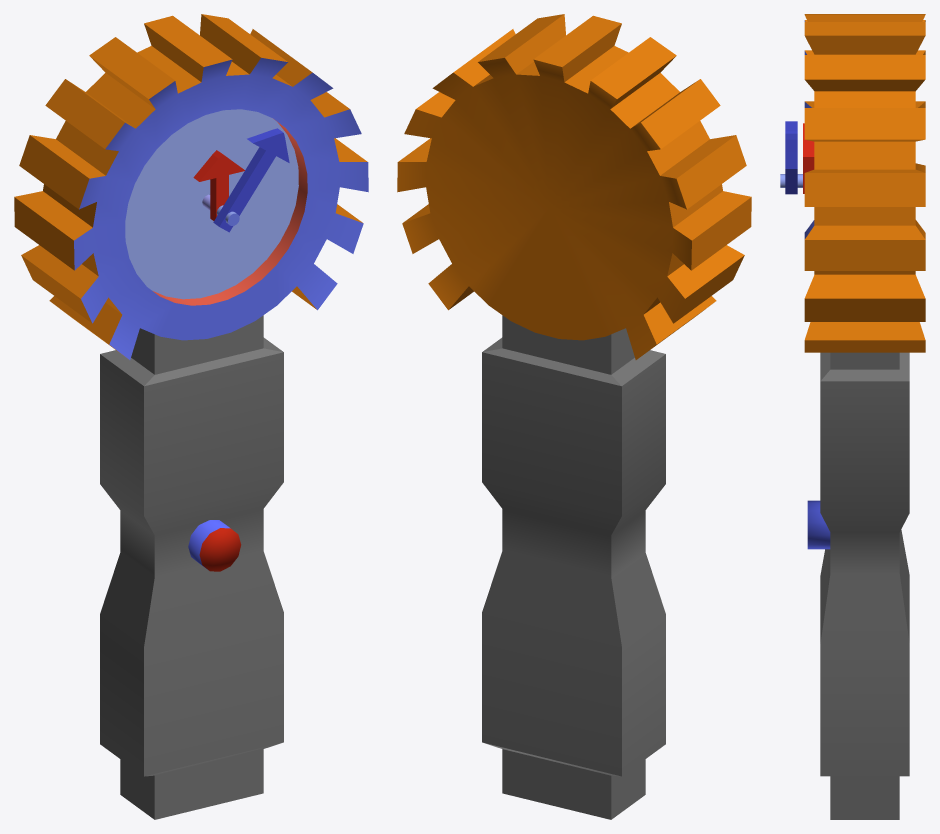
File: SM_001_DispositivoTemporal.fbx
3 views of the same model, side by side, from view 1: azimuth 30°, elevation 25°; view 2: azimuth 150°, elevation 25°; view 3: azimuth 270°, elevation 25° (orthographic).
Parts seen in each view (by area): view 1: SM_001_DispositivoTemporal, SM_001_DispositivoTemporalAgujaGrande, SM_001_DispositivoTemporalAgujaPeque; view 2: SM_001_DispositivoTemporal; view 3: SM_001_DispositivoTemporal, SM_001_DispositivoTemporalAgujaGrande, SM_001_DispositivoTemporalAgujaPeque.
Part boxes in pixels (x1,y1,x2,y2): SM_001_DispositivoTemporal: (14, 14, 368, 819); SM_001_DispositivoTemporalAgujaGrande: (213, 128, 289, 232); SM_001_DispositivoTemporalAgujaPeque: (193, 150, 244, 220); SM_001_DispositivoTemporal: (397, 14, 751, 819); SM_001_DispositivoTemporal: (780, 14, 925, 819); SM_001_DispositivoTemporalAgujaGrande: (785, 121, 797, 194); SM_001_DispositivoTemporalAgujaPeque: (803, 123, 814, 193).
Size of the model in its own units: 15.91 by 38.88 by 6.71.
Materials: 2 (2 with a texture image).
